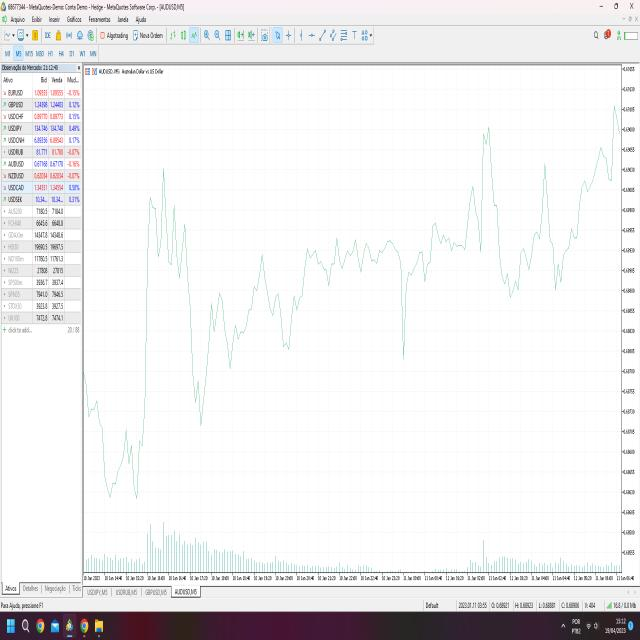fundo_duplo: (94, 387, 154, 514), (188, 340, 216, 442)
oco_inv: (260, 260, 312, 365)
